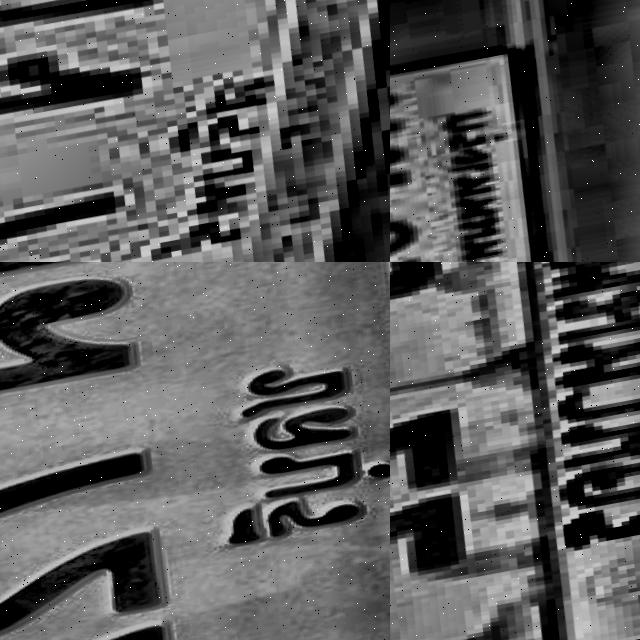license-plate: (0, 262, 390, 640), (0, 0, 390, 262), (390, 262, 640, 640), (390, 43, 588, 262)
